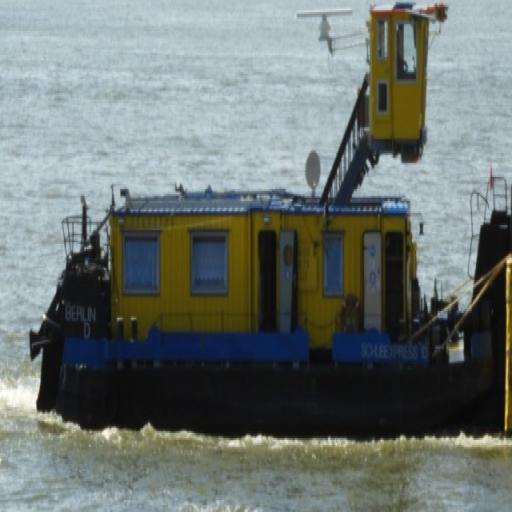tugboat: (28, 1, 512, 451)
